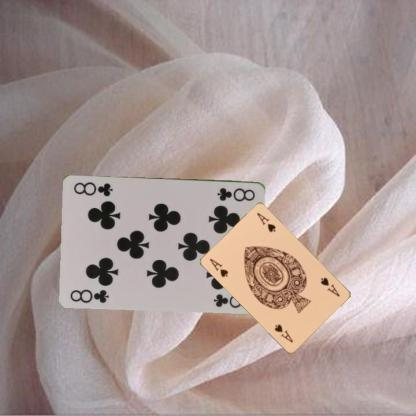8c: (214, 185, 257, 203), (67, 286, 110, 304)
As: (318, 274, 341, 298), (207, 256, 230, 278)
